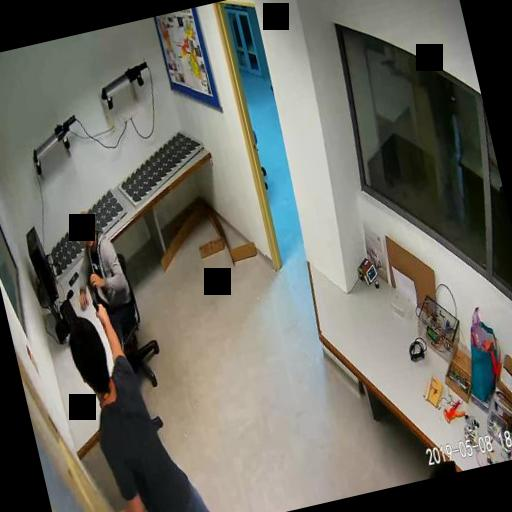Handgun: (86, 286, 108, 323)
